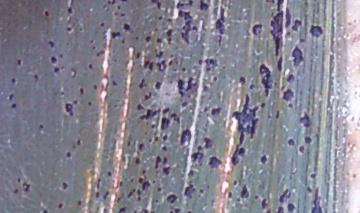tarspot: (228, 92, 267, 166), (268, 1, 285, 56), (177, 9, 192, 46), (258, 63, 273, 98), (215, 6, 229, 34), (311, 185, 323, 213), (292, 45, 305, 70), (137, 107, 161, 120), (308, 23, 323, 40), (277, 187, 292, 204), (203, 56, 218, 73), (190, 145, 204, 163), (298, 111, 311, 130), (207, 155, 223, 170), (183, 182, 196, 199), (284, 5, 292, 30), (180, 129, 191, 147), (202, 136, 215, 151), (185, 76, 197, 92), (251, 22, 263, 37), (238, 183, 250, 198), (282, 88, 295, 101), (64, 101, 74, 117), (290, 19, 302, 32), (160, 116, 171, 130), (156, 59, 167, 73), (175, 1, 194, 9), (210, 106, 222, 118), (165, 193, 178, 204), (170, 111, 181, 124), (276, 55, 284, 72), (149, 1, 162, 11), (21, 180, 31, 193), (154, 154, 162, 170), (285, 73, 296, 84), (152, 79, 163, 90), (153, 48, 164, 59), (109, 30, 121, 40), (198, 1, 210, 11), (116, 192, 126, 204), (176, 78, 185, 91), (94, 49, 106, 58), (137, 78, 146, 90), (286, 137, 296, 147), (45, 40, 55, 50), (143, 91, 153, 101), (184, 91, 194, 101), (286, 202, 295, 213), (61, 180, 70, 191), (32, 72, 41, 83), (160, 106, 171, 115), (141, 180, 150, 191), (127, 188, 136, 199), (238, 75, 246, 87), (260, 153, 268, 165), (260, 197, 268, 209), (69, 67, 77, 79), (43, 9, 52, 19), (162, 165, 170, 176), (187, 168, 195, 179), (6, 92, 15, 101), (286, 102, 295, 111), (160, 144, 169, 153), (176, 90, 185, 99), (135, 103, 144, 112), (165, 28, 174, 37), (180, 100, 189, 109), (304, 135, 312, 145), (66, 6, 74, 16), (122, 22, 130, 32), (78, 86, 86, 96), (165, 36, 173, 46), (201, 83, 209, 93), (155, 35, 163, 45), (217, 34, 223, 47), (95, 177, 101, 190), (274, 109, 281, 120), (76, 198, 83, 209), (142, 59, 149, 70), (297, 145, 306, 153), (15, 58, 23, 67), (49, 56, 57, 65), (276, 205, 285, 213), (133, 156, 141, 165), (191, 24, 199, 33), (93, 191, 102, 199), (173, 206, 183, 213), (102, 190, 109, 200), (138, 206, 148, 213), (166, 58, 173, 68), (10, 102, 18, 110), (12, 187, 20, 195), (119, 11, 127, 19), (85, 63, 94, 70), (75, 137, 82, 146), (134, 50, 141, 59), (197, 58, 204, 67), (227, 190, 233, 200), (105, 1, 117, 6), (148, 61, 154, 71), (305, 185, 312, 193), (309, 172, 316, 180), (52, 67, 60, 74), (65, 26, 73, 33), (248, 83, 255, 91), (57, 202, 64, 210), (65, 150, 72, 158), (111, 79, 119, 86), (162, 133, 169, 141), (117, 206, 125, 213), (144, 35, 151, 43), (106, 170, 113, 178), (252, 194, 260, 201), (149, 122, 156, 130), (147, 137, 154, 145), (157, 14, 164, 22), (298, 36, 305, 44), (138, 142, 144, 151), (162, 156, 168, 165), (135, 187, 141, 196), (117, 180, 123, 189), (212, 74, 218, 83), (265, 206, 272, 213), (86, 100, 93, 107), (98, 21, 105, 28), (197, 187, 204, 194), (140, 168, 147, 175), (136, 195, 143, 202), (128, 177, 135, 184), (59, 90, 66, 97), (166, 16, 173, 23), (133, 35, 140, 42), (202, 106, 209, 113), (10, 77, 16, 85), (232, 179, 238, 187), (16, 175, 22, 183), (156, 185, 162, 193), (101, 207, 109, 213), (92, 83, 98, 91), (137, 176, 143, 184), (113, 11, 119, 19), (65, 40, 71, 48), (168, 78, 174, 86), (72, 98, 78, 105), (38, 123, 44, 130), (153, 135, 159, 142), (153, 198, 160, 204), (116, 4, 122, 11), (119, 38, 126, 44), (88, 38, 95, 44), (41, 208, 49, 213), (152, 27, 160, 32), (112, 103, 118, 109), (172, 66, 178, 72), (57, 53, 63, 59), (126, 140, 131, 147), (220, 64, 227, 69), (221, 74, 226, 81), (264, 1, 274, 4), (91, 44, 96, 50), (181, 66, 186, 72), (151, 179, 156, 185), (169, 53, 174, 59), (173, 59, 178, 65), (78, 27, 82, 33), (168, 209, 173, 213), (132, 209, 137, 213), (186, 210, 192, 213), (120, 1, 128, 2)
